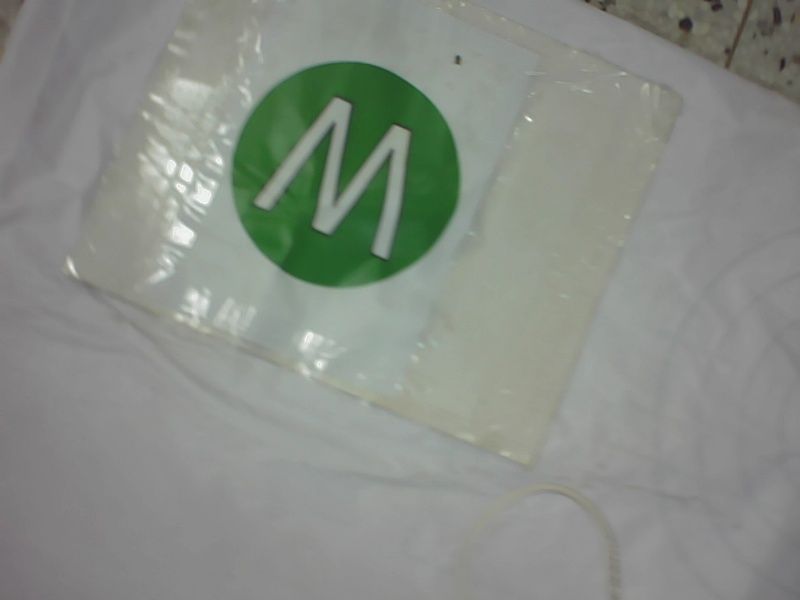areaB: (223, 55, 467, 296)
